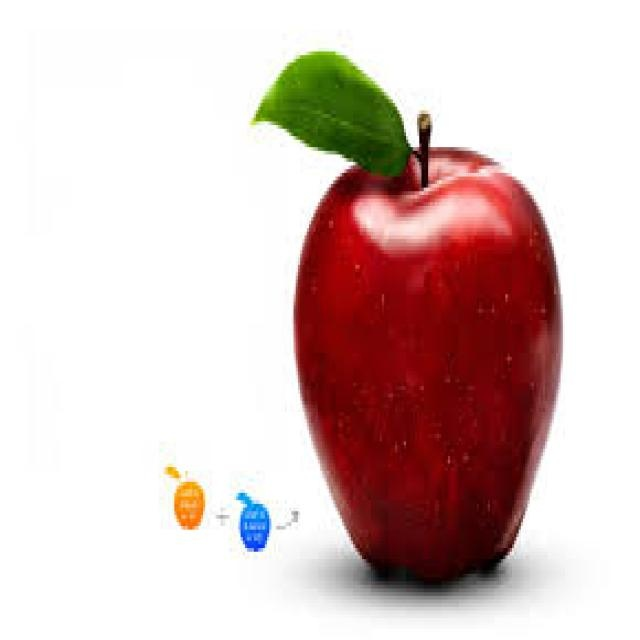agrume: (249, 51, 591, 598)
